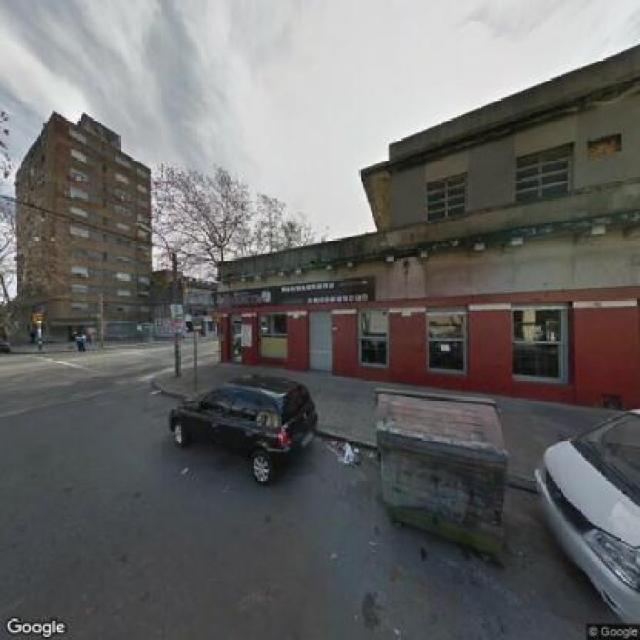garbage: (325, 432, 380, 470)
